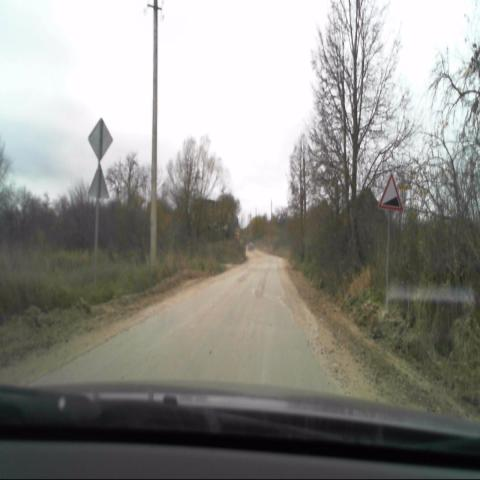1_14: (378, 172, 404, 213)
